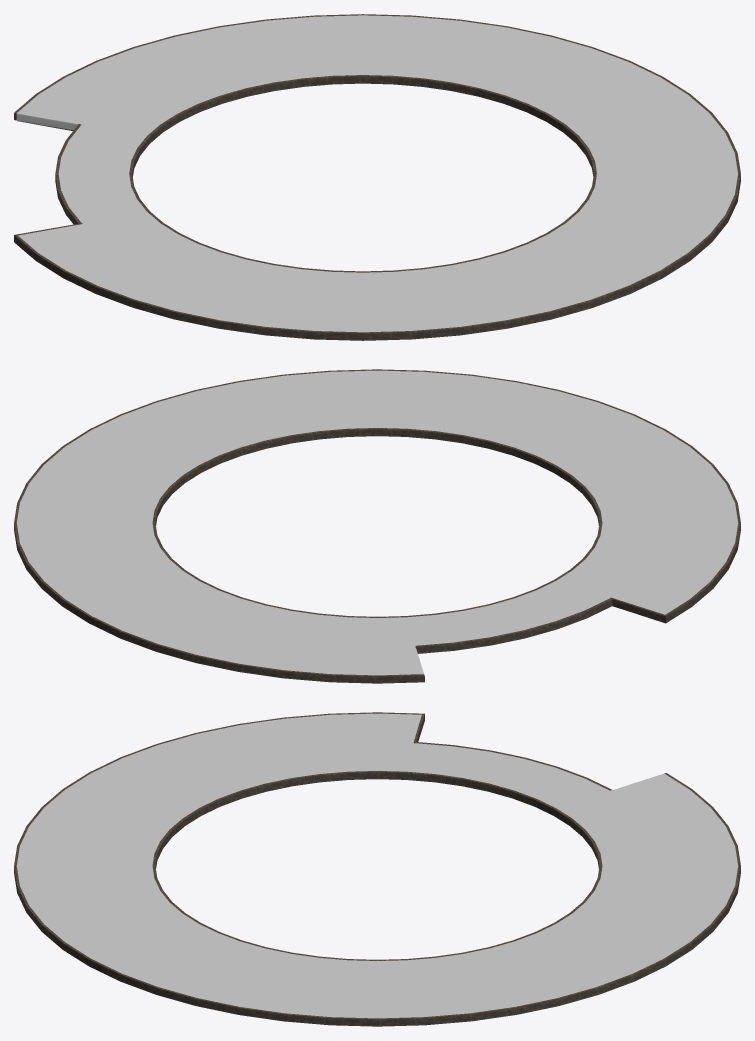
3 views of the same model, one above another, from view 1: azimuth 30°, elevation 25°; view 2: azimuth 150°, elevation 25°; view 3: azimuth 270°, elevation 25° (orthographic). The views are drawn at different scales.
Visible parts, largest first — view 1: SM_Library_Balcony_A_LOD0; view 2: SM_Library_Balcony_A_LOD0; view 3: SM_Library_Balcony_A_LOD0.
Boxes of the visible parts, <box> form: SM_Library_Balcony_A_LOD0: <box>14,14,740,340</box>; SM_Library_Balcony_A_LOD0: <box>14,369,740,683</box>; SM_Library_Balcony_A_LOD0: <box>14,712,740,1026</box>.
Size of the model in its own units: 38.35 by 0.4565 by 38.35.
